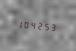five: (42, 20, 47, 31)
four: (30, 19, 35, 30)
one: (17, 18, 22, 29)
three: (48, 20, 53, 32)
two: (36, 19, 41, 31)
zero: (23, 18, 28, 30)
